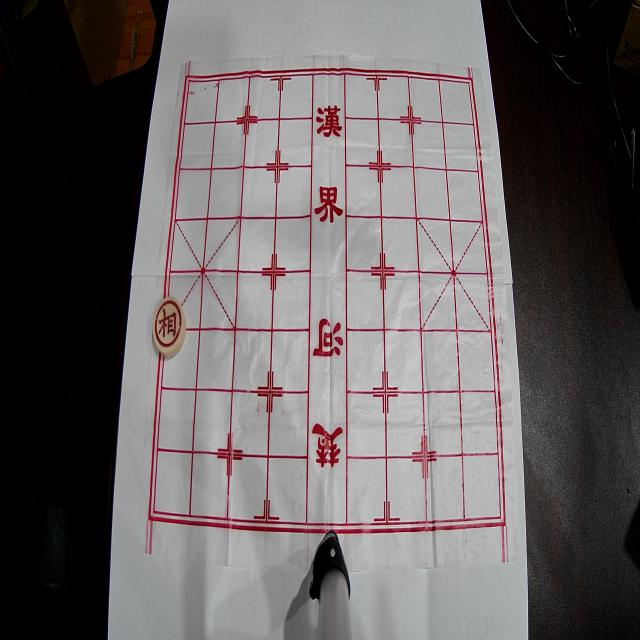red-elephant: (152, 296, 186, 358)
